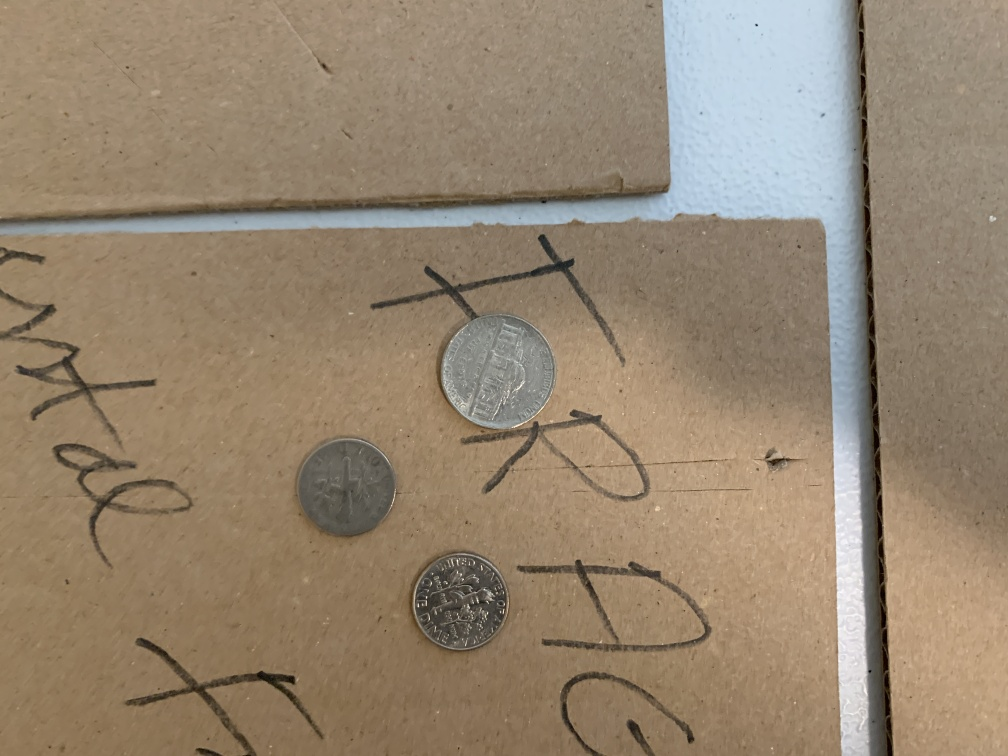dime: (292, 434, 400, 543), (407, 550, 511, 652)
nickel: (434, 311, 558, 436)
